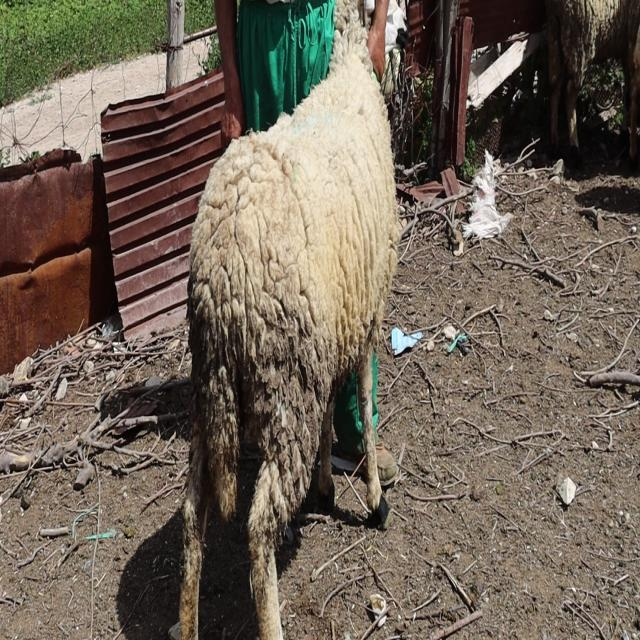Score_3: (179, 0, 398, 639)
